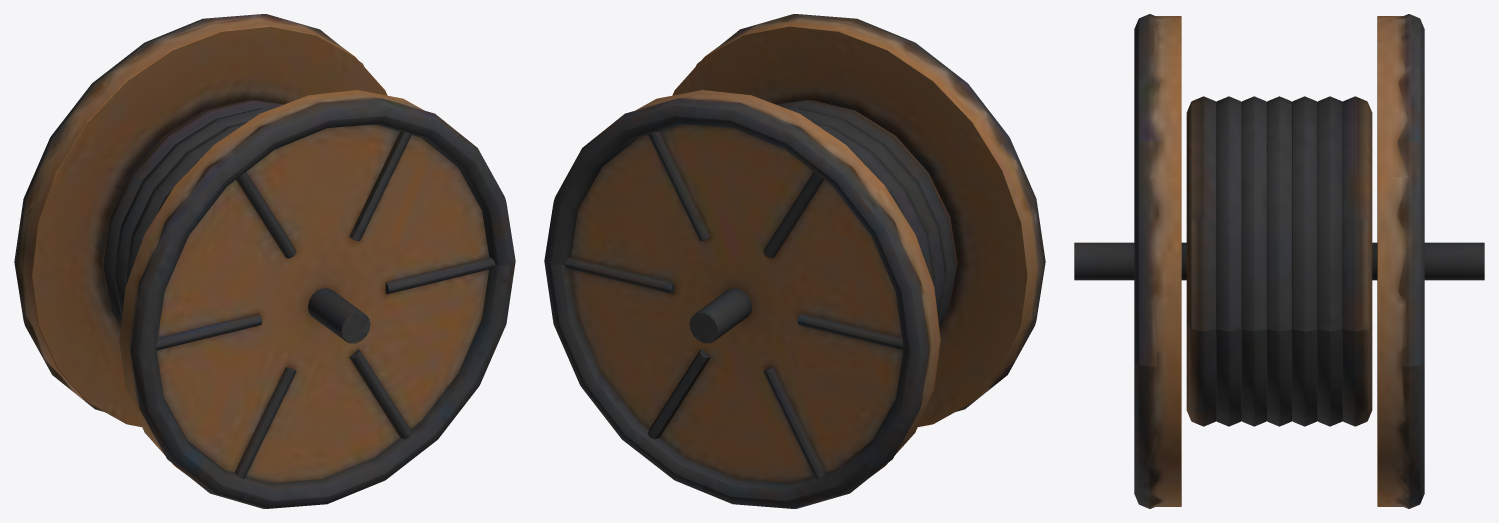
File: LV_cable_spool.glb
3 views of the same model, side by side, from view 1: azimuth 30°, elevation 25°; view 2: azimuth 150°, elevation 25°; view 3: azimuth 270°, elevation 25° (orthographic). The views are drawn at different scales.
Parts seen in each view (by area): view 1: LV_cable_spool; view 2: LV_cable_spool; view 3: LV_cable_spool.
Part boxes in pixels (bbox=[...]): LV_cable_spool: bbox=[14, 14, 515, 508]; LV_cable_spool: bbox=[544, 14, 1045, 508]; LV_cable_spool: bbox=[1074, 14, 1484, 508].
Bounding box in the file's own units: 1.58 × 1.58 × 1.3.
Materials: 1 (1 with a texture image).
